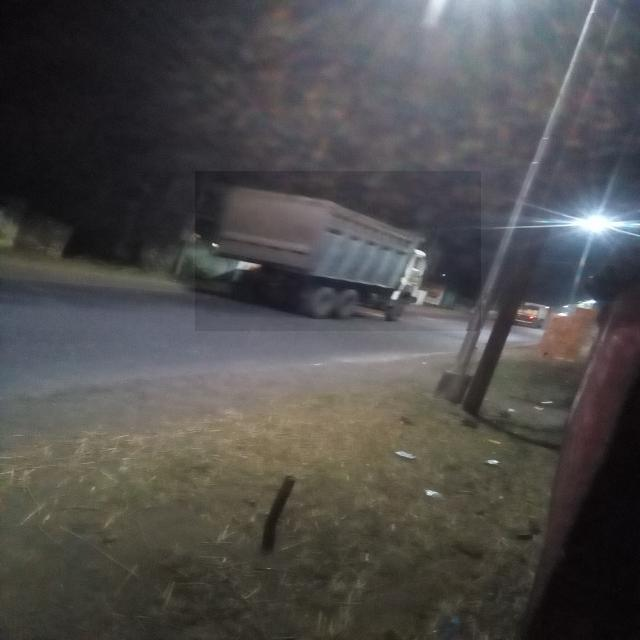Truck: (196, 172, 482, 332)
